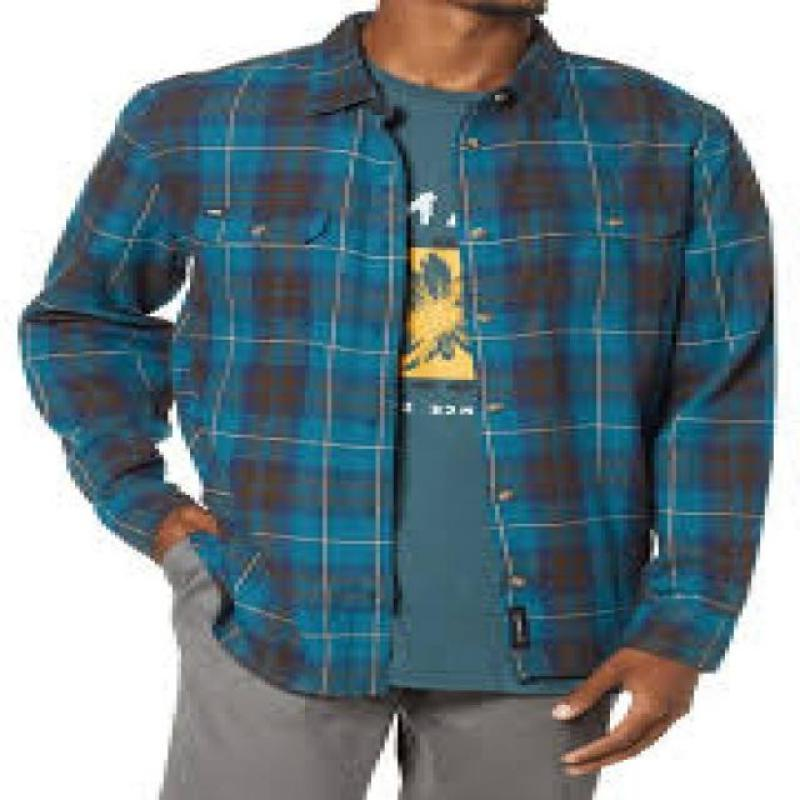long sleeve shirt: (14, 18, 775, 695)
short sleeve shirt: (297, 59, 594, 703)
trousers: (156, 539, 611, 800)
